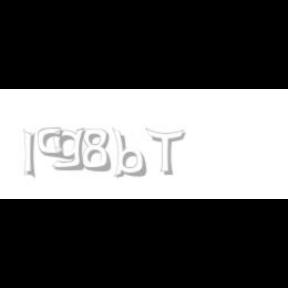8: (82, 128, 110, 172)
I: (24, 128, 36, 180)
T: (145, 128, 185, 176)
b: (112, 128, 150, 178)
c: (37, 128, 66, 160)
g: (53, 128, 90, 171)
